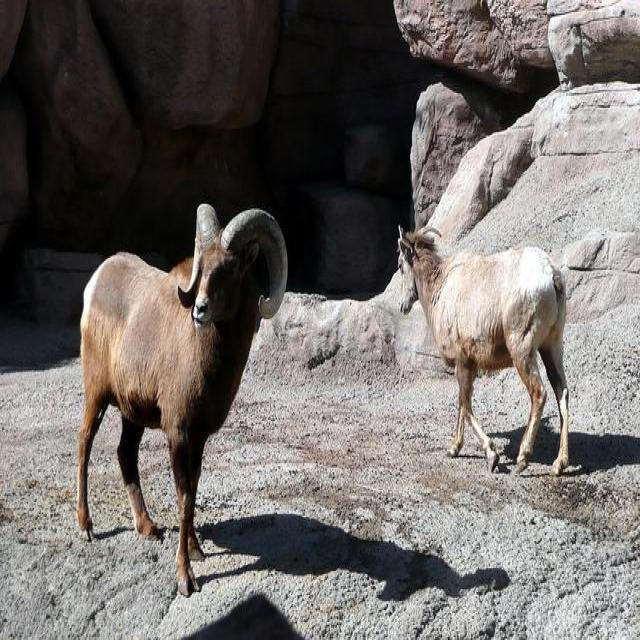Sheep: (77, 206, 289, 600), (394, 223, 574, 480)
